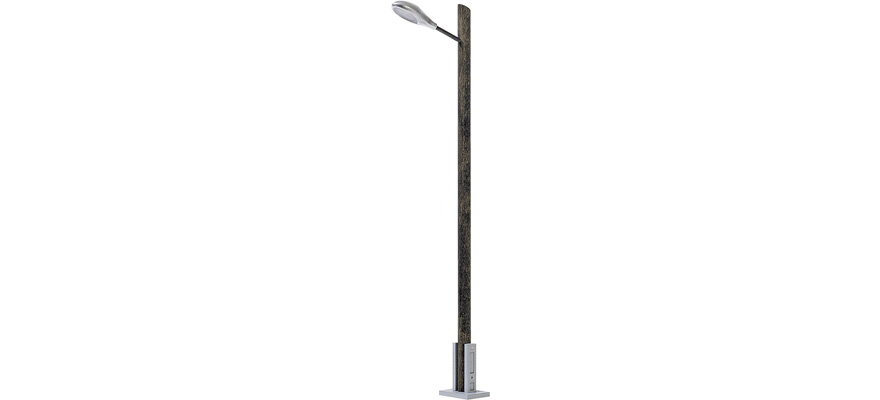light_pole: (442, 0, 487, 399)
